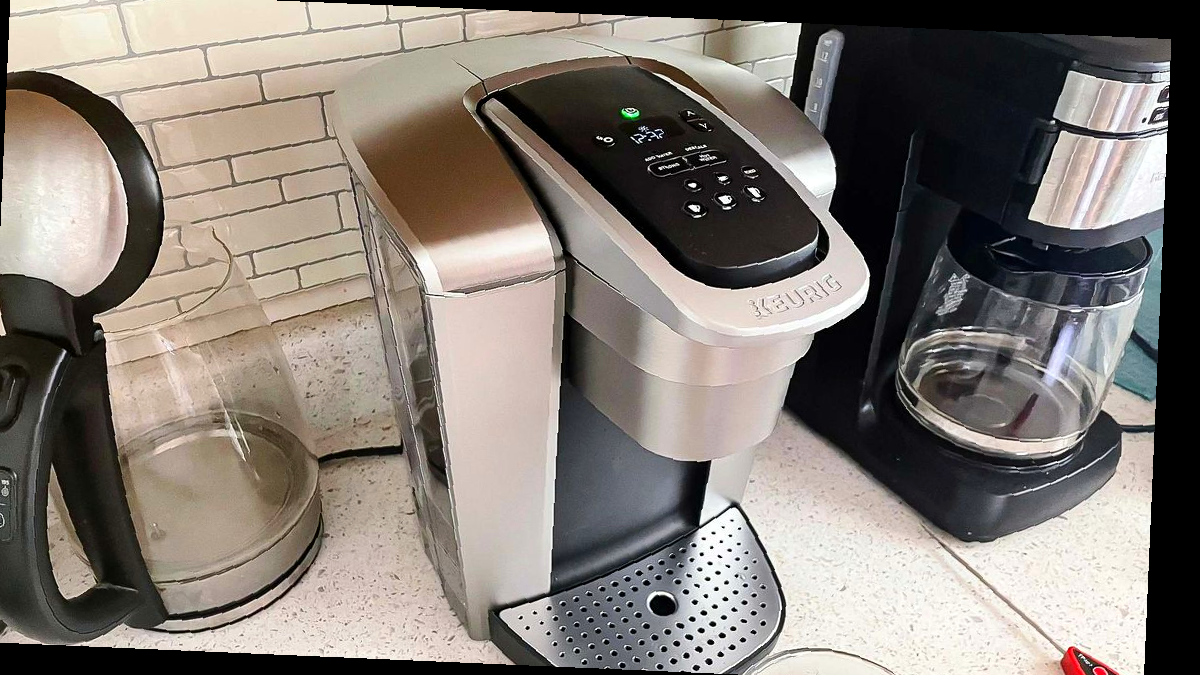10oz: (711, 190, 740, 212)
12oz: (741, 184, 770, 206)
4oz: (683, 177, 706, 194)
6oz: (711, 170, 734, 187)
8oz: (681, 198, 708, 219)
add_water: (639, 137, 678, 167)
descale: (678, 127, 717, 157)
hot: (686, 143, 725, 173)
iced: (738, 163, 762, 180)
power: (620, 105, 641, 120)
strong: (647, 152, 686, 182)
